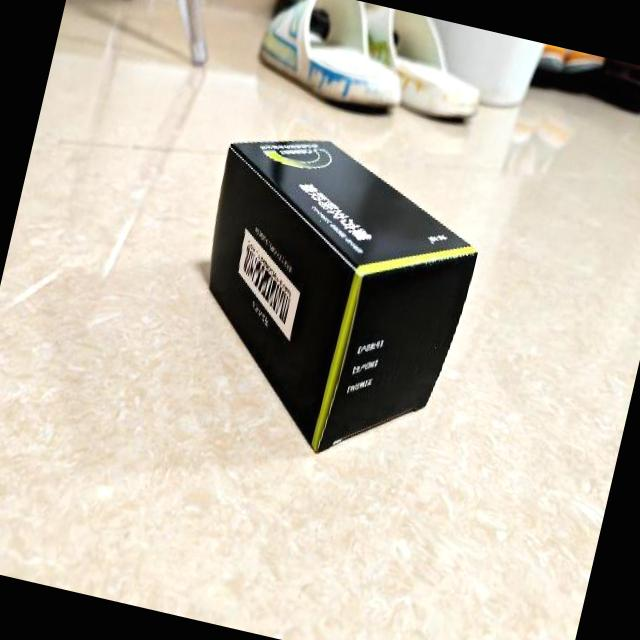box: (163, 116, 498, 479)
